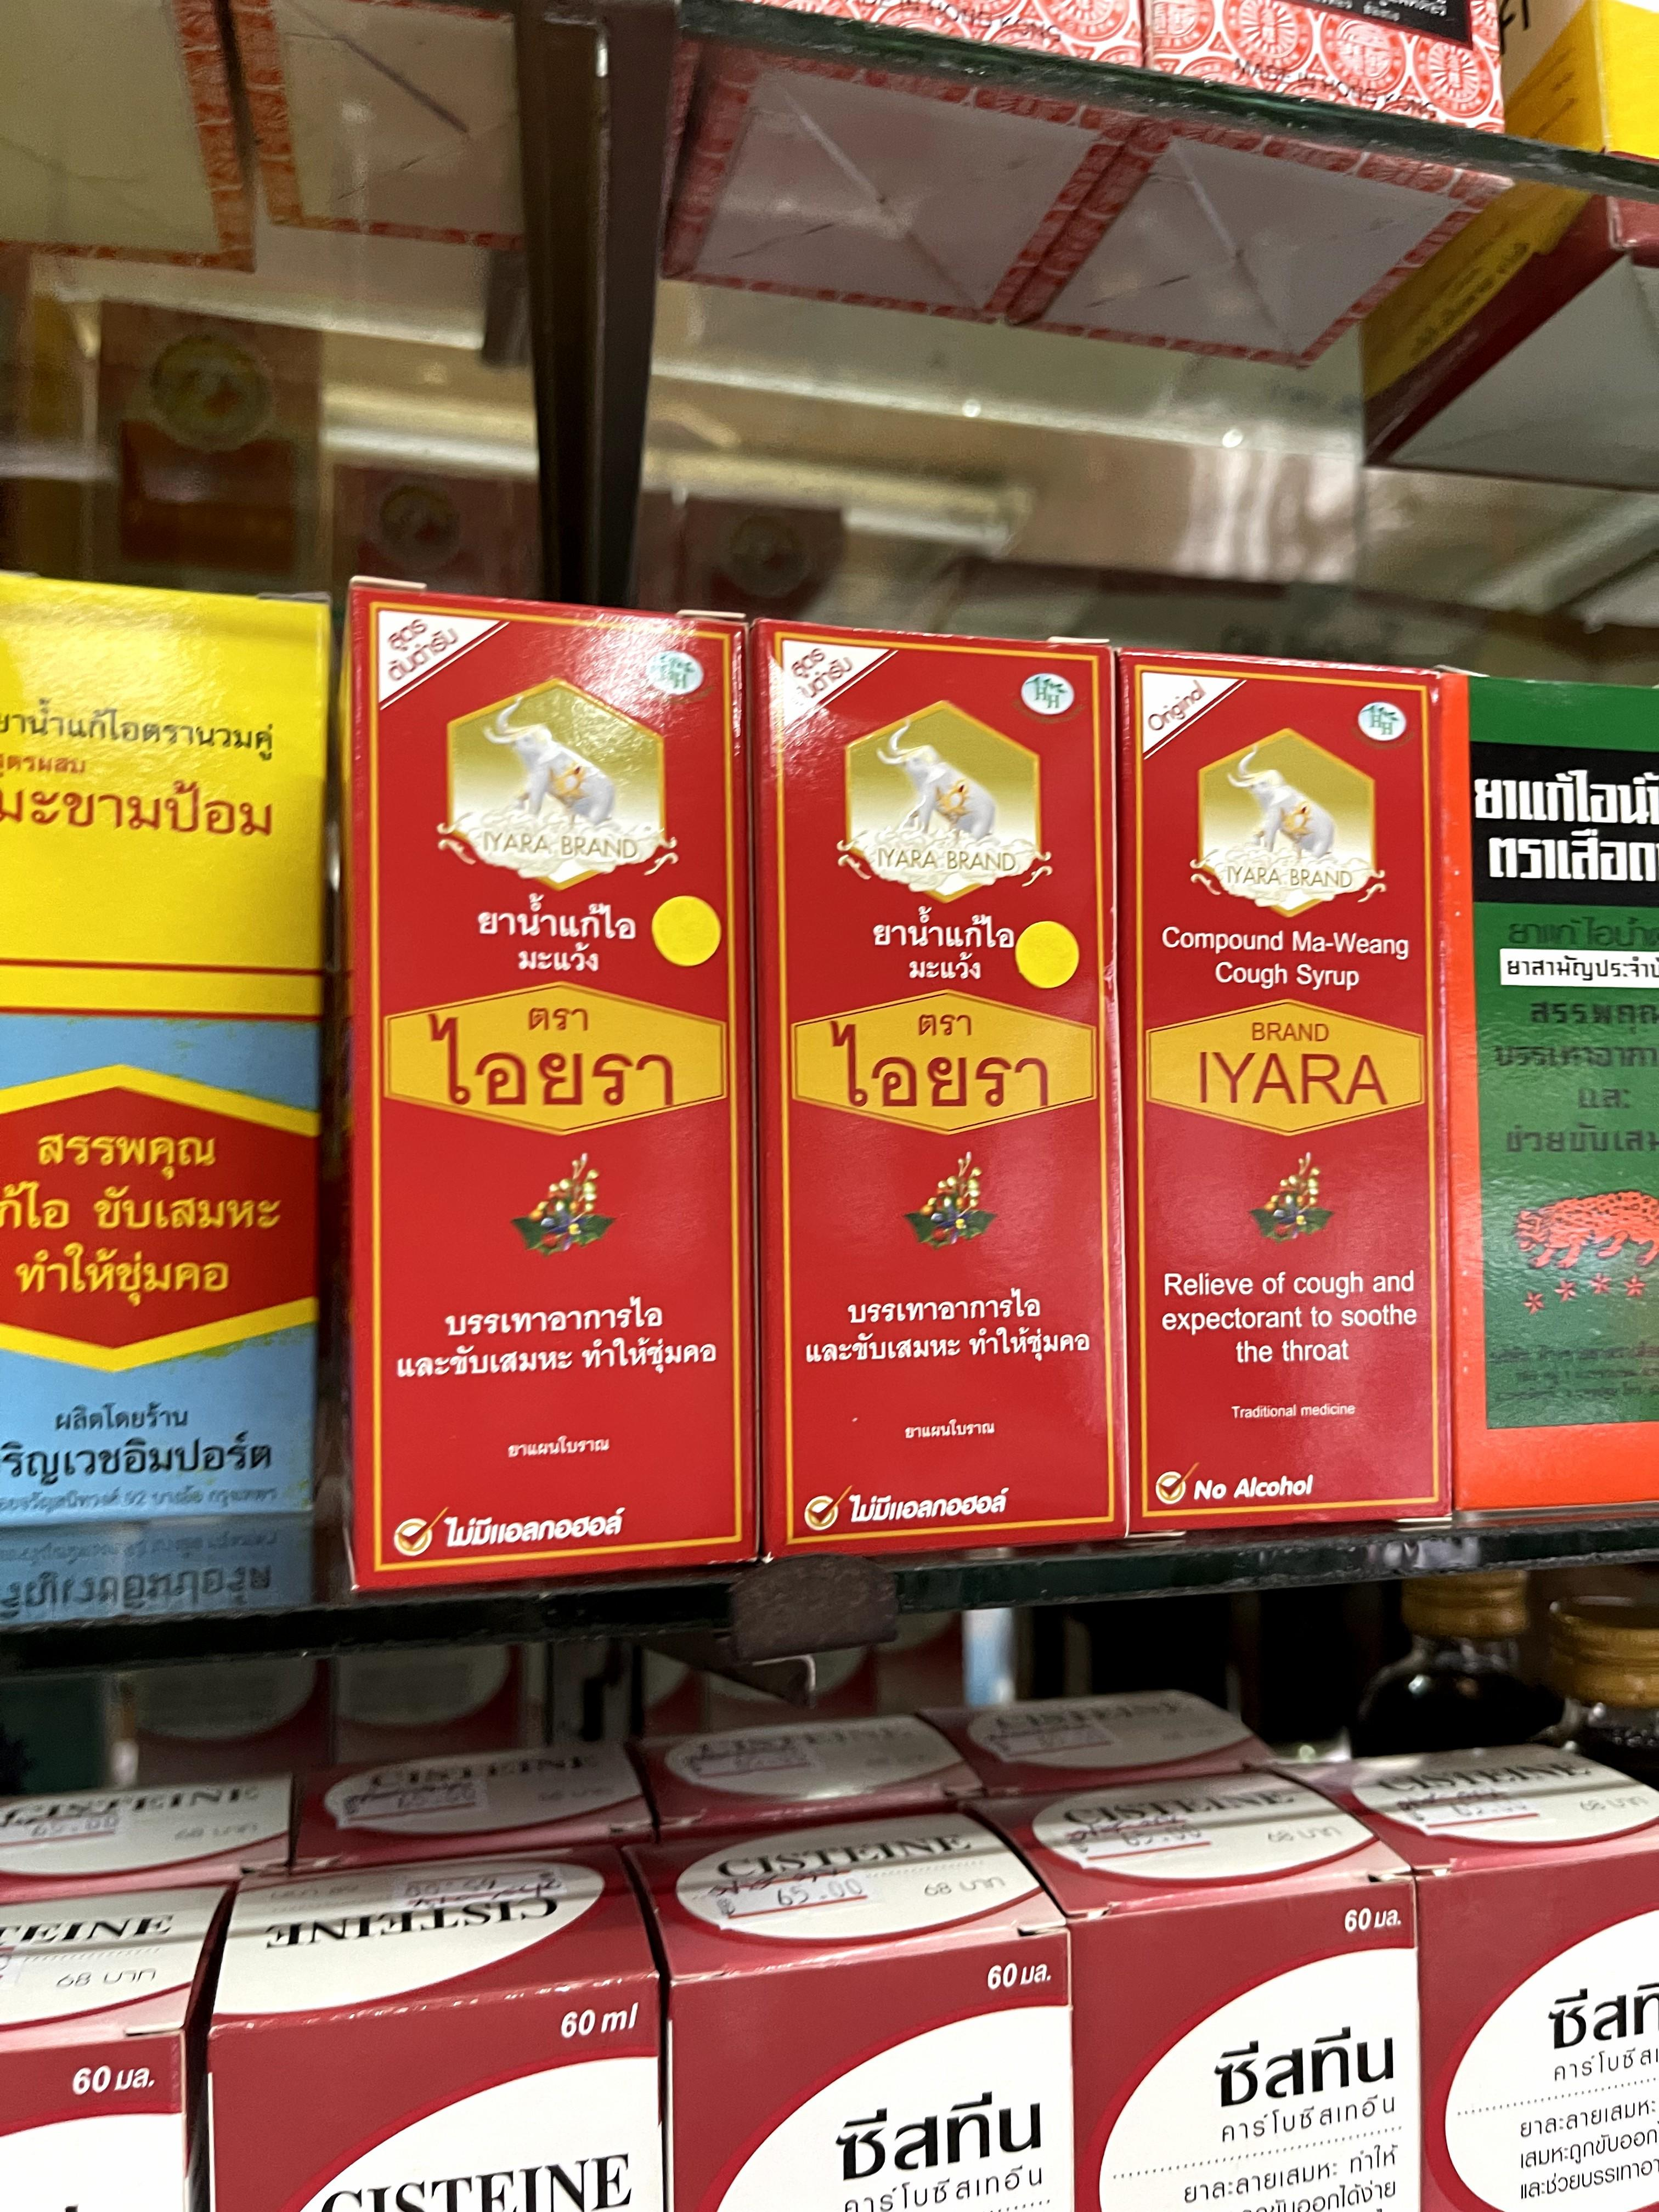Black-Tiger: (1448, 672, 1659, 1522)
Cisteine: (1009, 1766, 1424, 2212), (653, 1822, 1075, 2212), (1319, 1761, 1659, 2212), (225, 1871, 669, 2212), (0, 1893, 228, 2212), (300, 1752, 655, 1851), (938, 1695, 1270, 1791), (647, 1726, 976, 1817), (0, 1785, 293, 1876)
Iyara: (345, 578, 756, 1555), (751, 631, 1114, 1547), (1122, 664, 1453, 1527)
Ma-Kham-Pom: (0, 568, 321, 1527)
